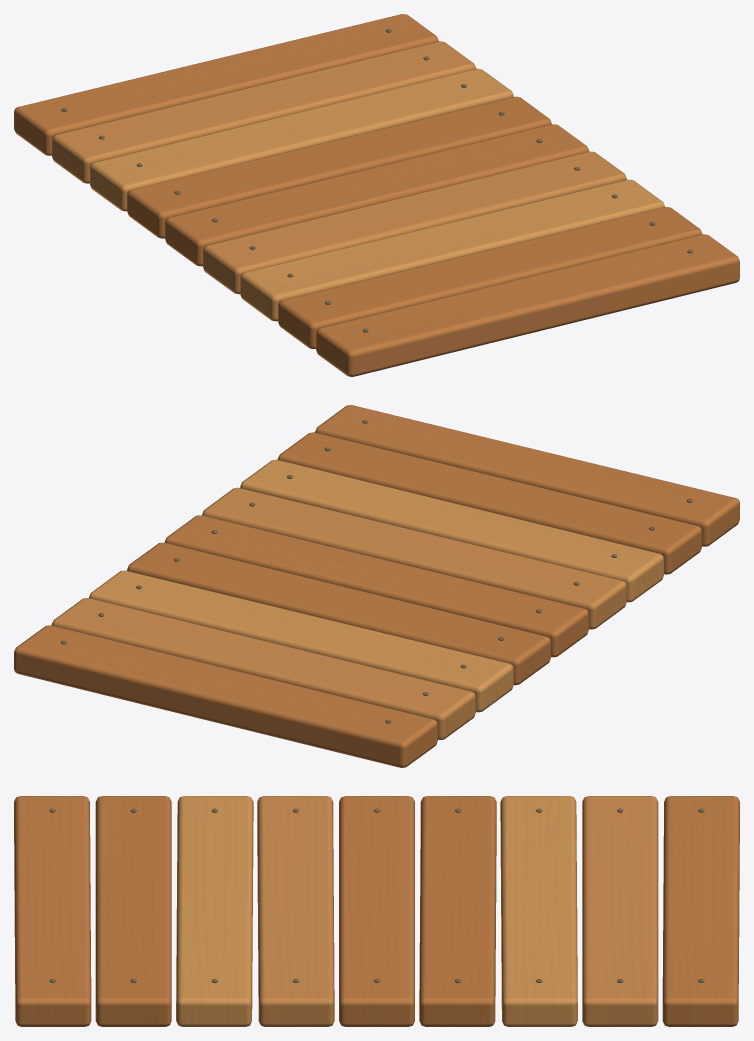
The model's file is dock.glb.
3 renders of one model, top to bottom at view 1: azimuth 30°, elevation 25°; view 2: azimuth 150°, elevation 25°; view 3: azimuth 270°, elevation 25°, orthographic. The views are drawn at different scales.
Bounding box in the file's own units: 1.99 × 0.142 × 2.95.
1 material, 1 textured.
